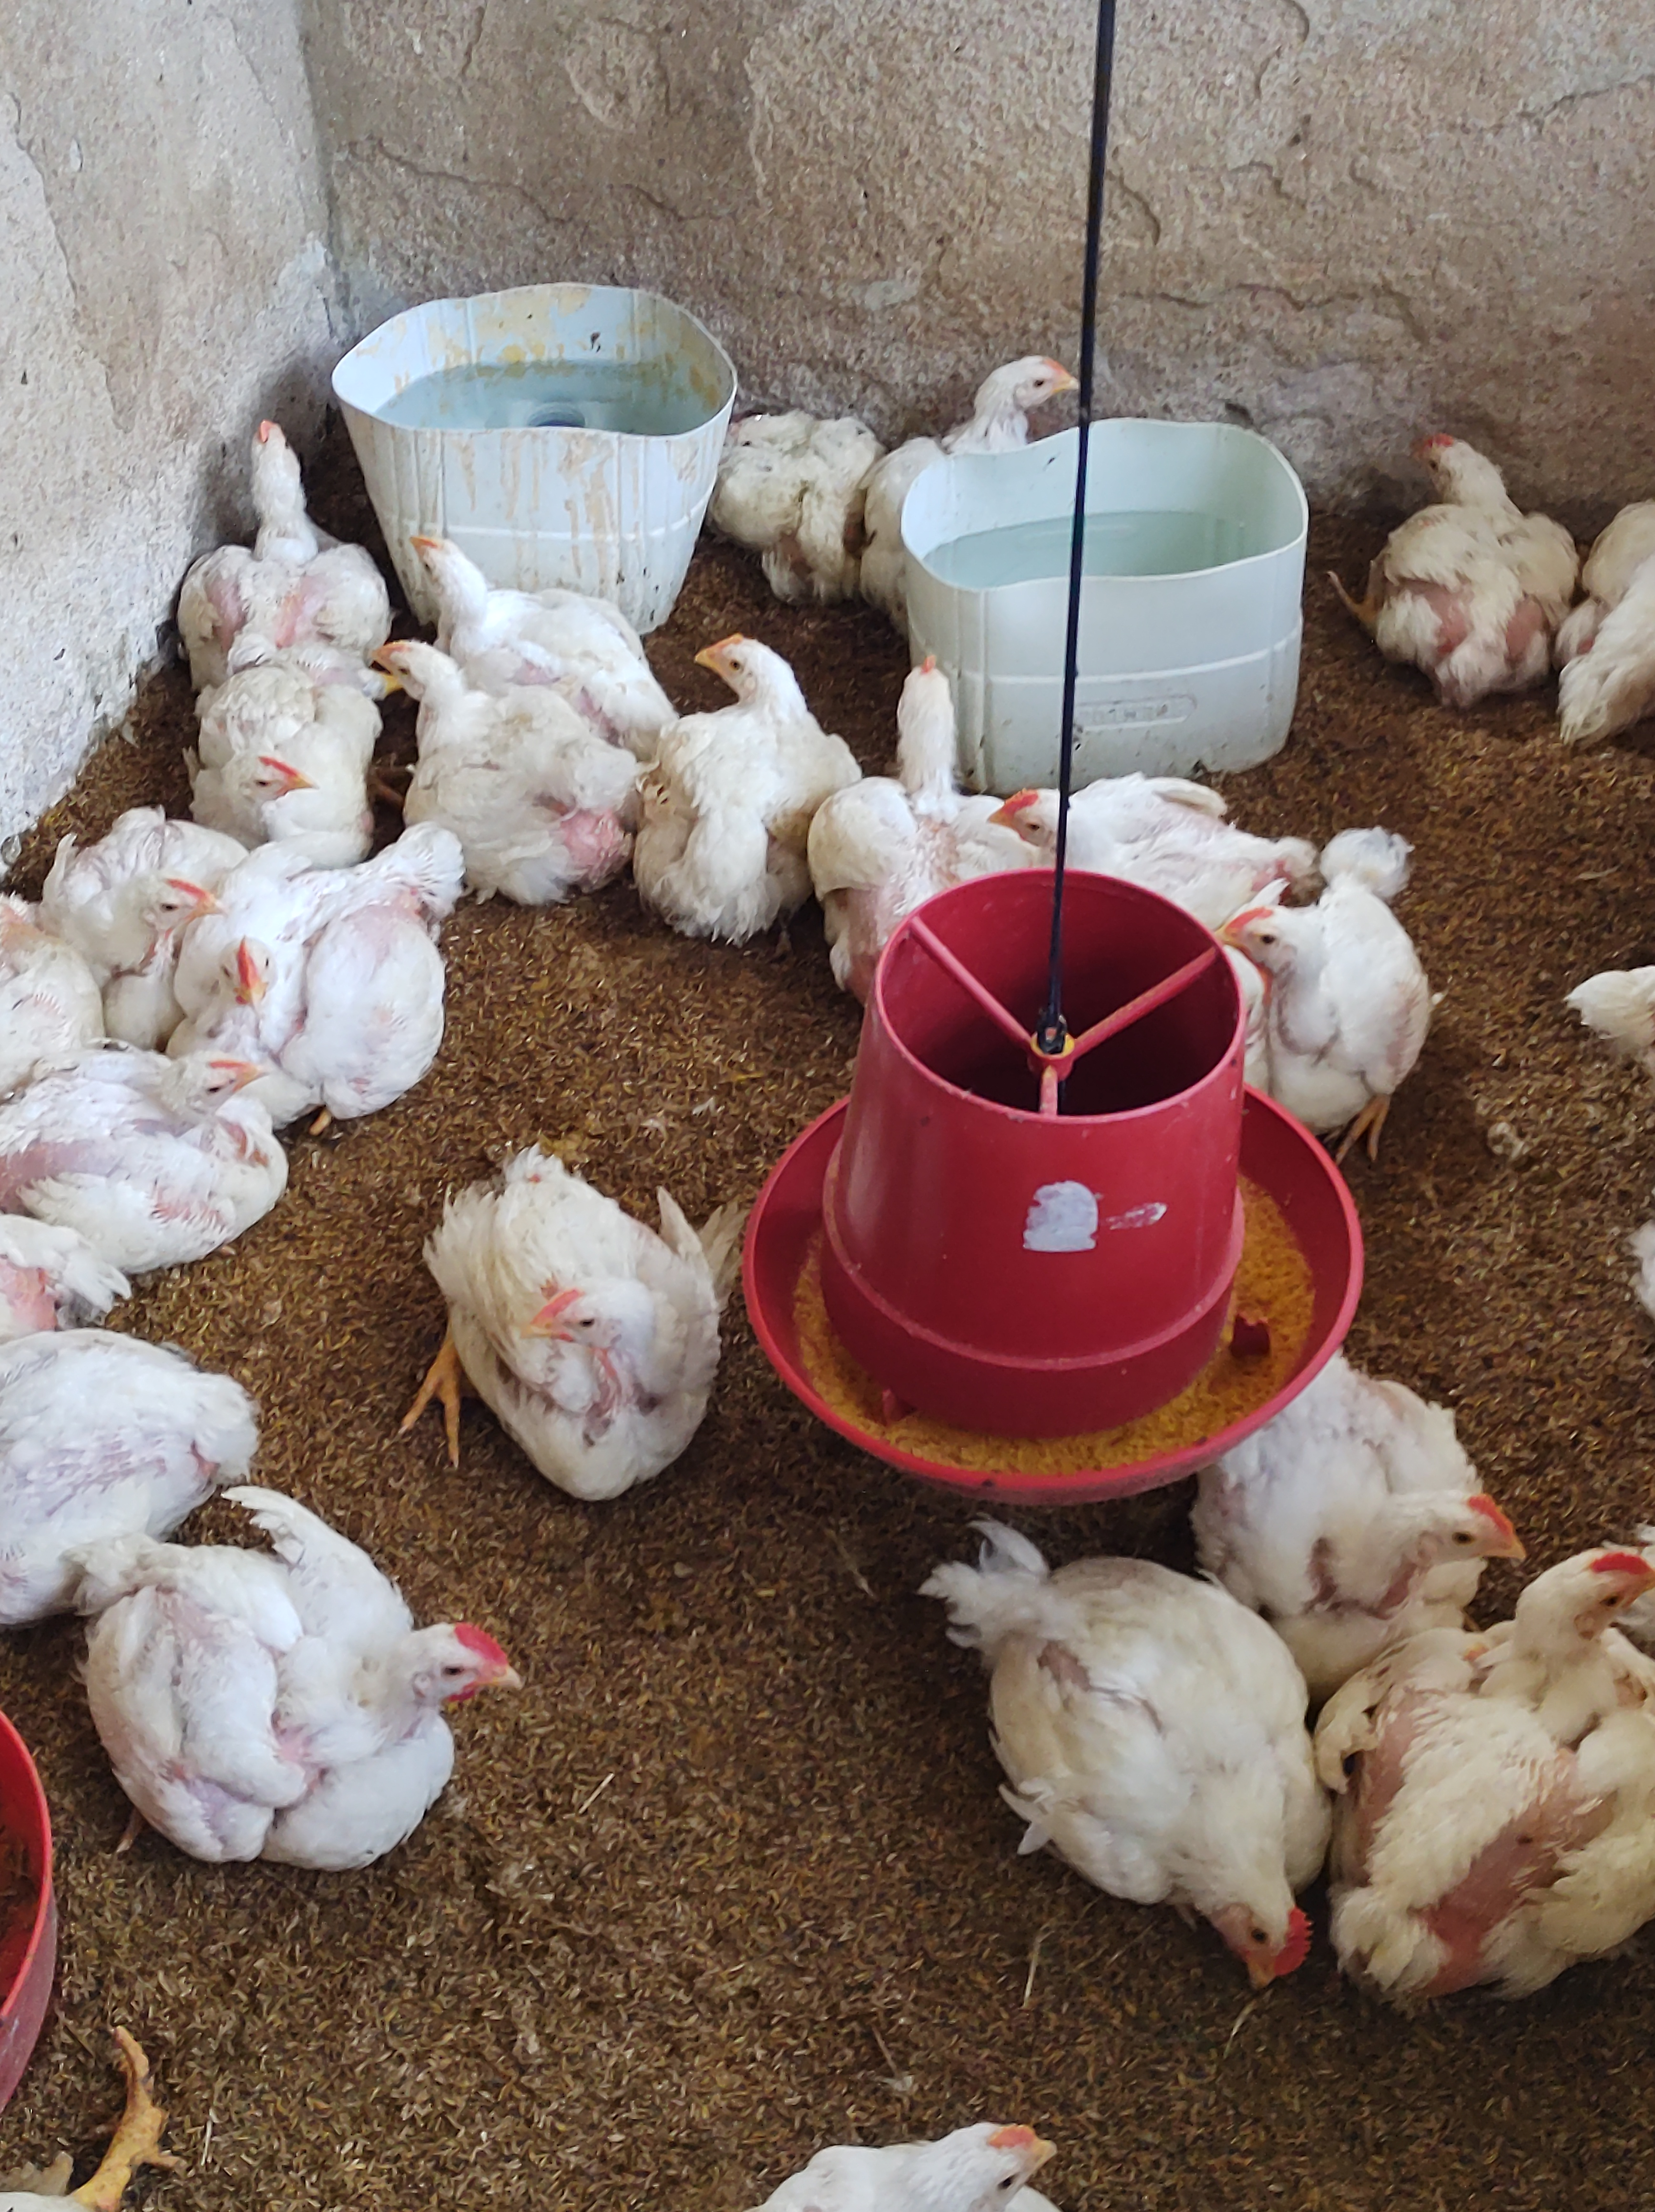Pollos: (37, 1489, 532, 1824), (1007, 1504, 1326, 1989), (1372, 1523, 1652, 2022), (440, 1160, 808, 1489), (1240, 1315, 1526, 1610), (1166, 863, 1434, 1160), (881, 301, 1161, 577), (657, 631, 890, 956), (1347, 407, 1559, 762), (0, 1329, 283, 1591), (0, 1033, 299, 1261), (819, 645, 1017, 984), (356, 640, 643, 854), (153, 374, 348, 640), (963, 743, 1226, 927), (662, 379, 890, 567), (402, 499, 581, 713), (163, 683, 405, 829), (779, 2106, 1104, 2212), (17, 791, 221, 960), (1540, 461, 1643, 756), (188, 903, 396, 1014)
